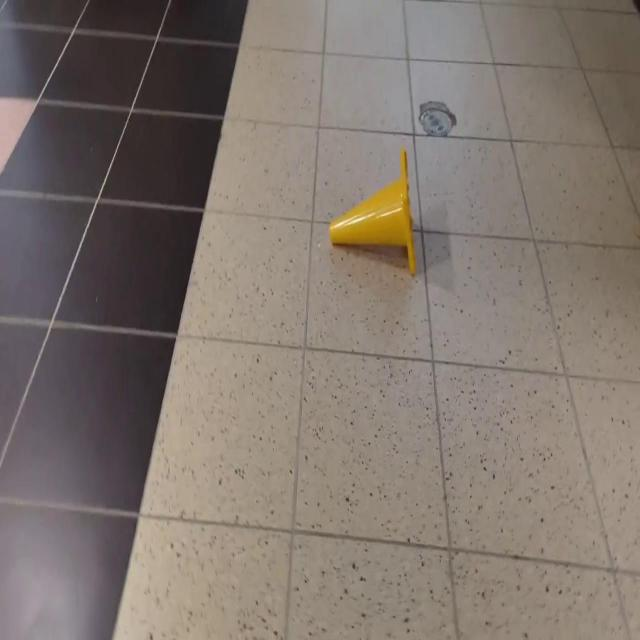frc_cone: (329, 150, 417, 278)
